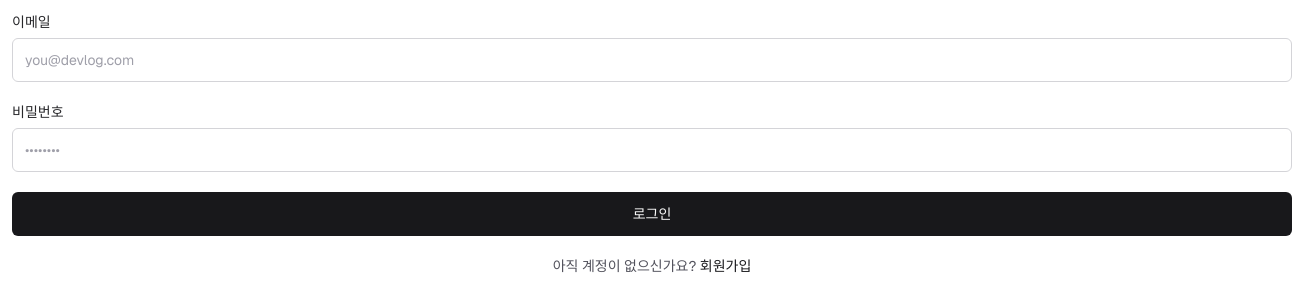
Test: <LoginForm /> › action 이 진행 중이면 submit 버튼이 disabled 상태로 '로그인 중...' 을 노출한다
Type "user@devlog.com" into the field labelled "이메일" at (652, 60), box [12, 38, 1292, 82]
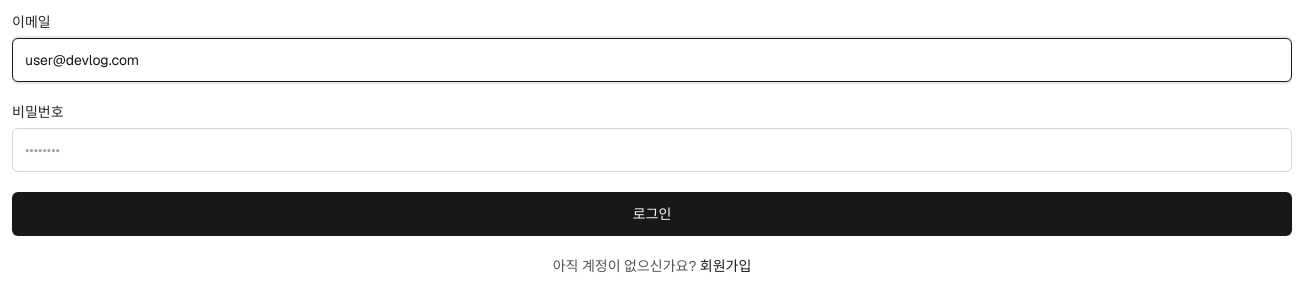
Type "password1234" into the password field labelled "비밀번호" at (652, 150), box [12, 128, 1292, 172]
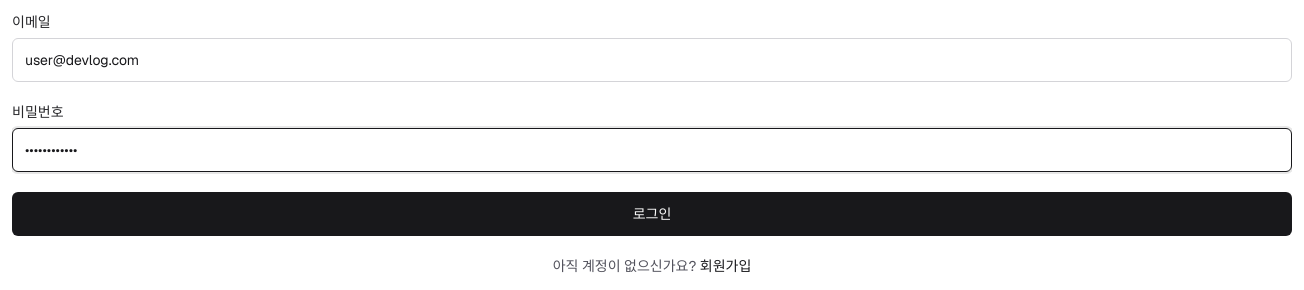
Click the button "로그인" at (652, 214), box [12, 192, 1292, 236]
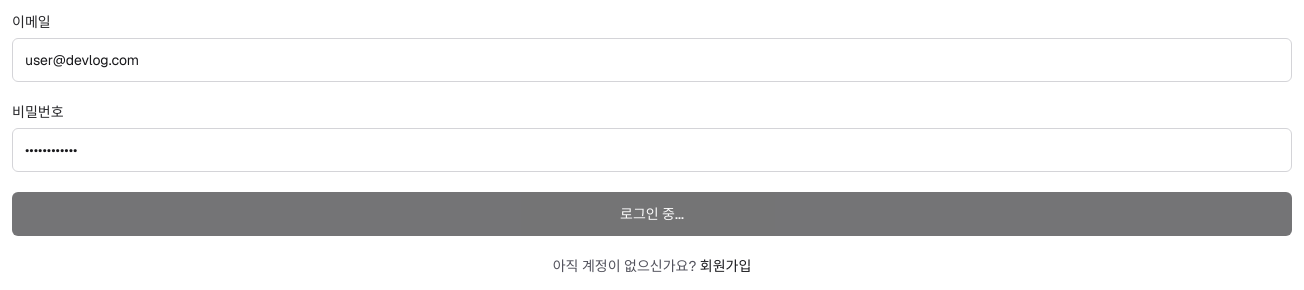
Check: the button "로그인 중..." is disabled, box [12, 192, 1292, 236]
